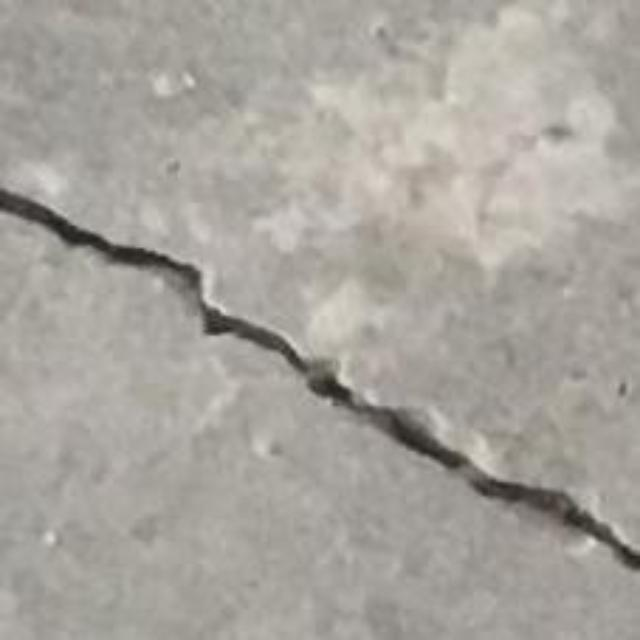crack: (0, 187, 639, 572)
peeling plaster: (147, 3, 639, 394)
